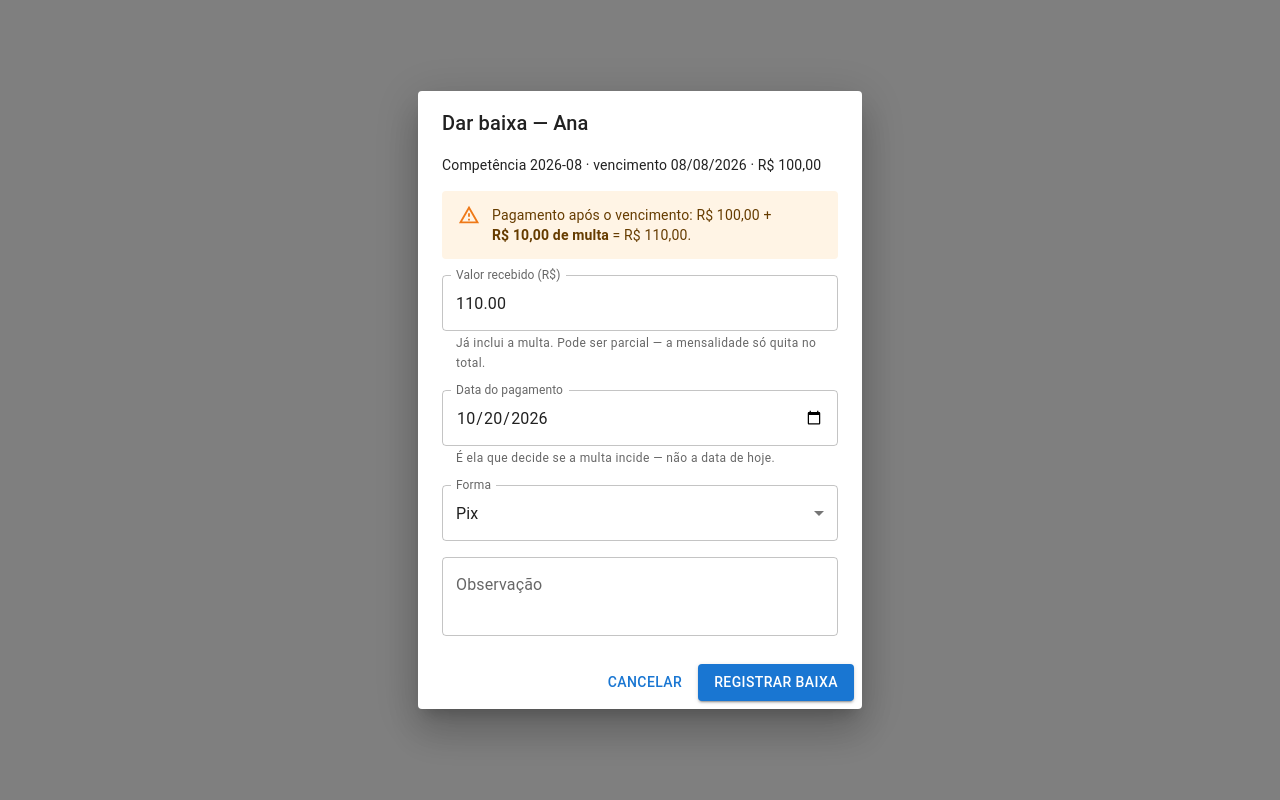
Test: multa na baixa › mostra valor e multa separados quando o pagamento é depois do vencimento
The image size is (1280, 800).
Clear the date field labelled "Data do pagamento" at (640, 418), box [442, 390, 838, 446]
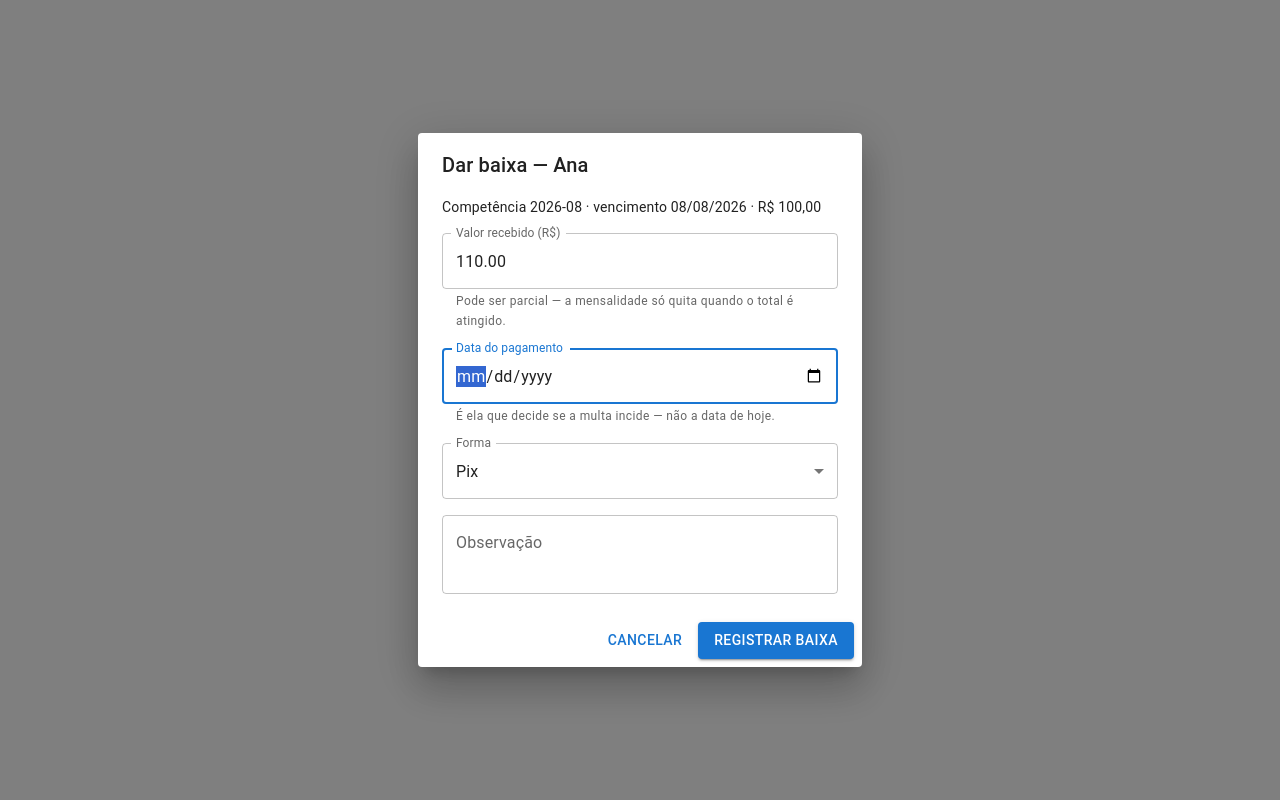
Type "2026-08-15" into the date field labelled "Data do pagamento" at (640, 376), box [442, 348, 838, 404]
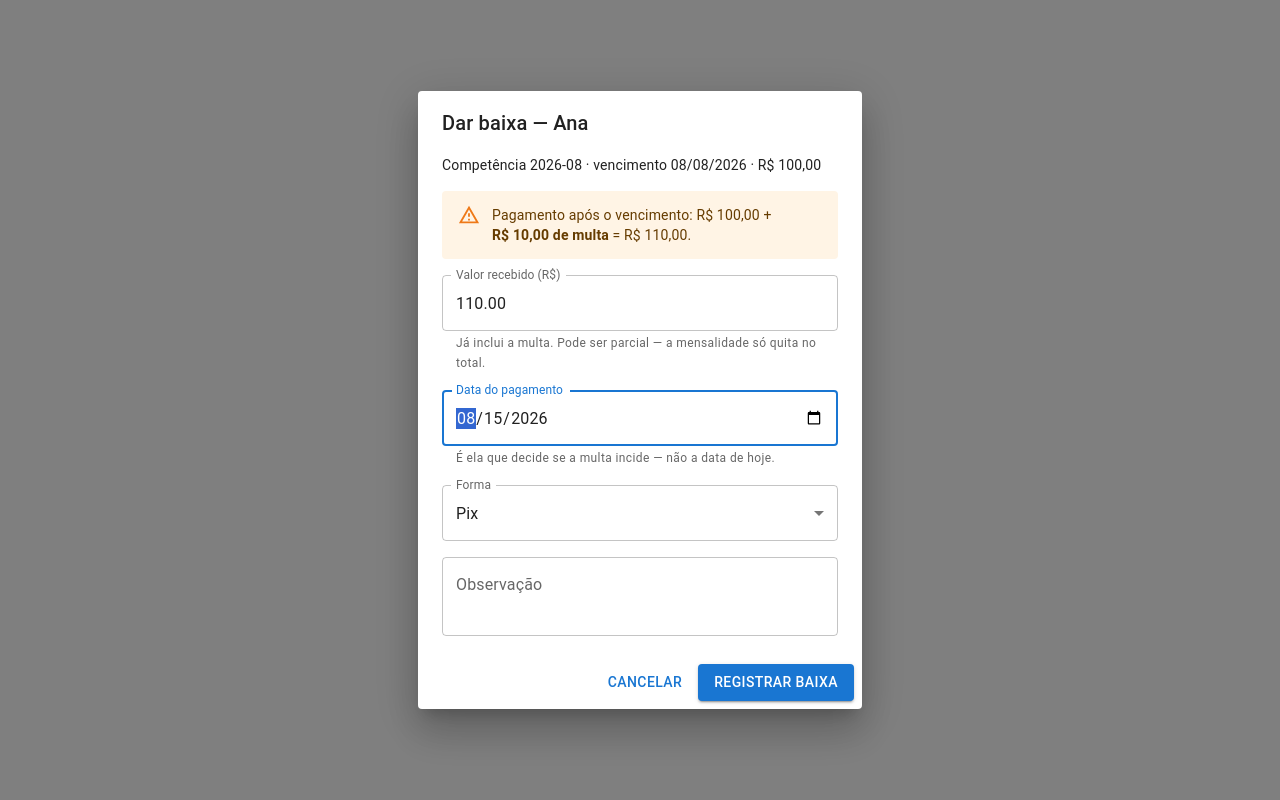
Expected: the message with test id "late-fee-warning" reads "Pagamento após o vencimento: R$ 100,00 + R$ 10,00 de multa = R$ 110,00.", [696, 207, 760, 223]
